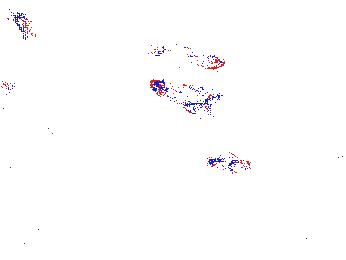red belly glassfish: (205, 152, 254, 174)
redtail glassfish: (33, 120, 126, 153), (148, 78, 216, 117), (148, 38, 227, 71), (1, 4, 31, 38)
